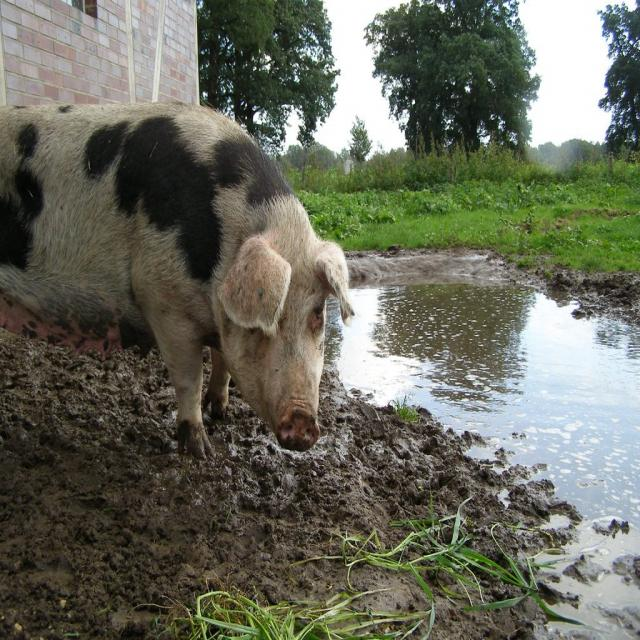Pig: (0, 100, 355, 460)
